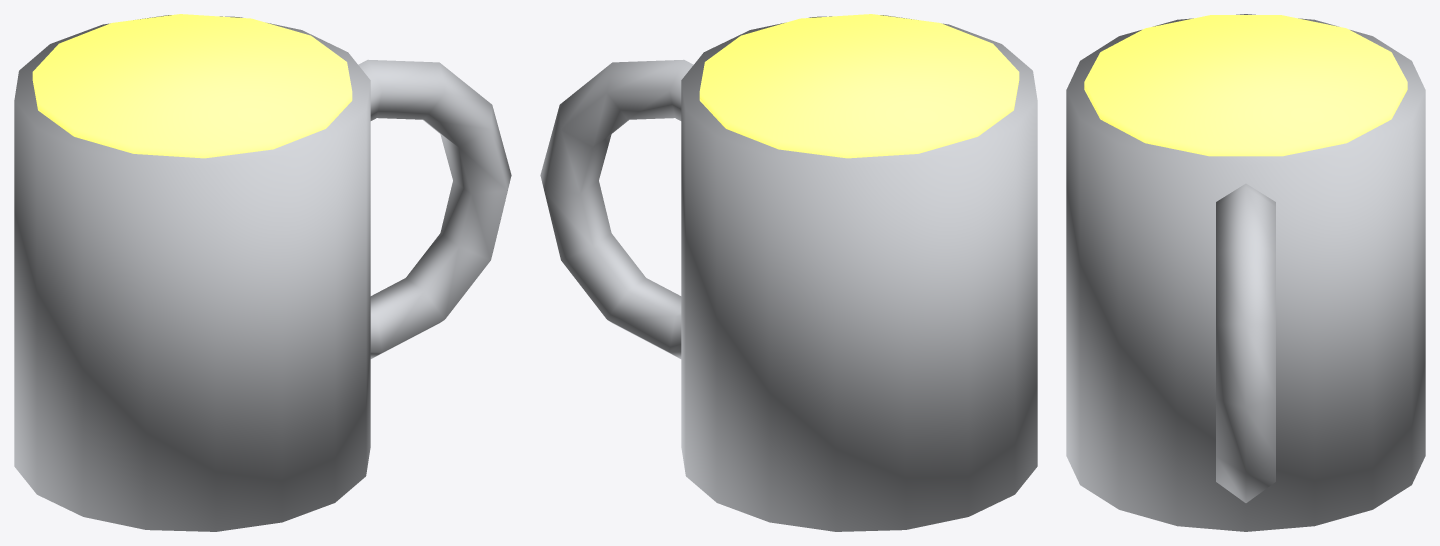
The model's file is cup_mug.glb.
3 views of the same model, side by side, from view 1: azimuth 30°, elevation 25°; view 2: azimuth 150°, elevation 25°; view 3: azimuth 270°, elevation 25° (orthographic).
Visible parts, largest first — view 1: GD_cup_mug__m0, GD_cup_mug__m1; view 2: GD_cup_mug__m0, GD_cup_mug__m1; view 3: GD_cup_mug__m0, GD_cup_mug__m1.
Boxes of the visible parts, x1,y1,x2,y2 form: GD_cup_mug__m0: (14,15,511,531); GD_cup_mug__m1: (32,14,352,158); GD_cup_mug__m0: (540,15,1037,531); GD_cup_mug__m1: (699,14,1019,158); GD_cup_mug__m0: (1066,14,1425,531); GD_cup_mug__m1: (1084,15,1407,156).
Bounding box in the file's own units: 0.122 × 0.092 × 0.08.
